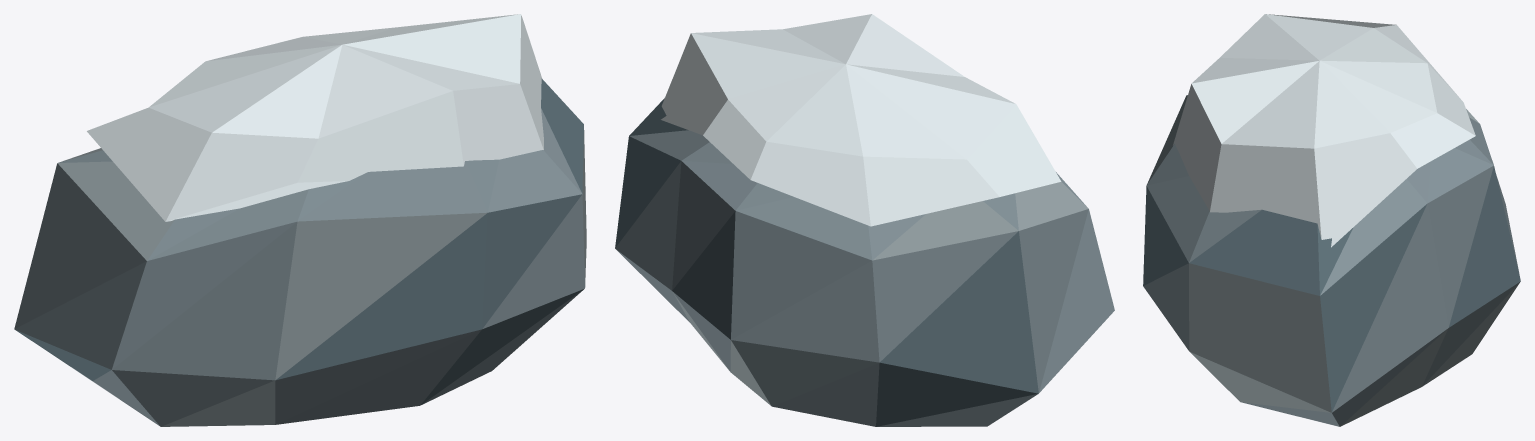
Rendered from ROCK_02_MediumSnowy.glb.
3 views of the same model, side by side, from view 1: azimuth 30°, elevation 25°; view 2: azimuth 150°, elevation 25°; view 3: azimuth 270°, elevation 25° (orthographic). The views are drawn at different scales.
Visible parts, largest first — view 1: ROCK_02_MediumSnowy; view 2: ROCK_02_MediumSnowy; view 3: ROCK_02_MediumSnowy.
Part boxes in pixels (x1,y1,x2,y2): ROCK_02_MediumSnowy: (14,14,586,426); ROCK_02_MediumSnowy: (615,14,1114,426); ROCK_02_MediumSnowy: (1143,14,1520,426).
Bounding box in the file's own units: 2.4 × 1.4 × 1.64.
